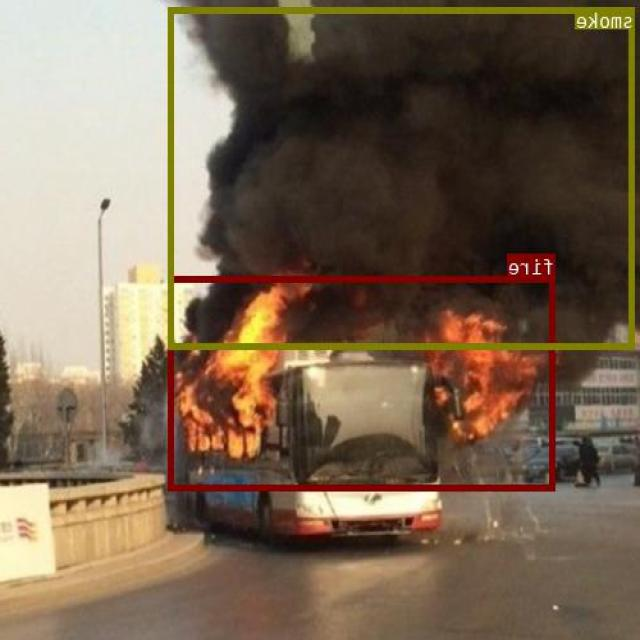fire: (170, 275, 556, 489)
smoke: (169, 6, 636, 348)
